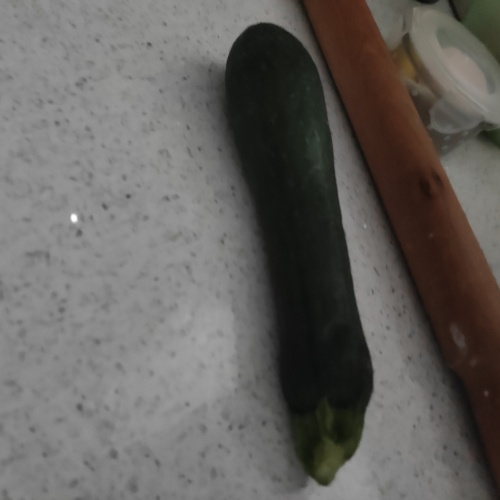zucchine: (221, 19, 382, 484)
